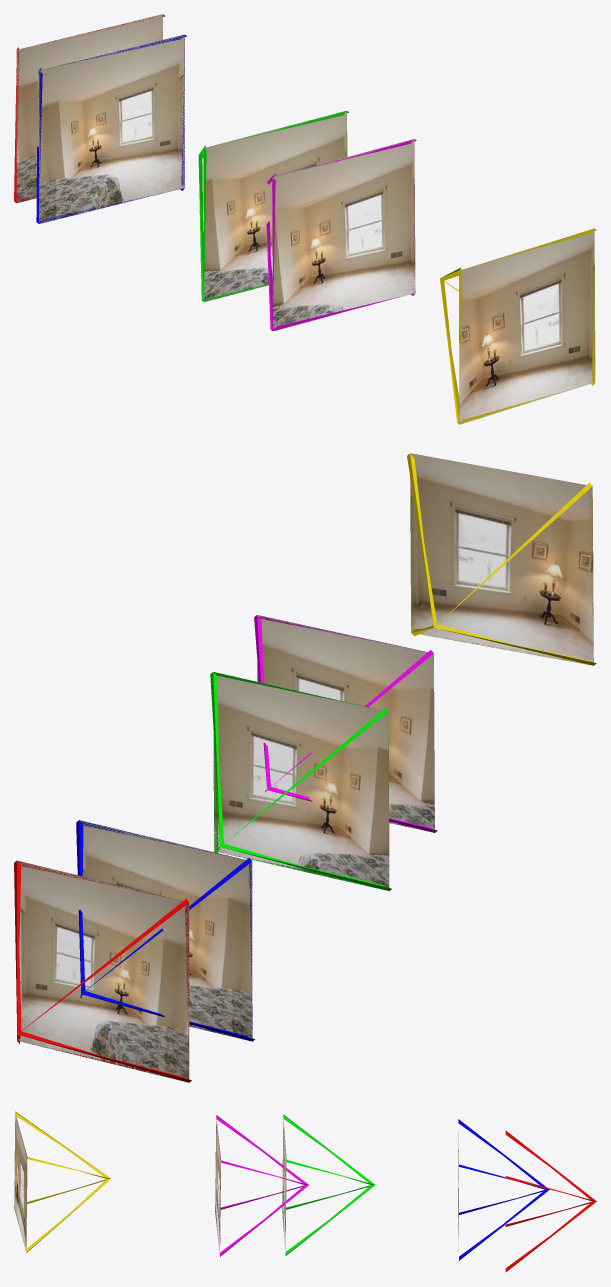
3 renders of one model, top to bottom at view 1: azimuth 30°, elevation 25°; view 2: azimuth 150°, elevation 25°; view 3: azimuth 270°, elevation 25°, orthographic. The views are drawn at different scales.
Parts seen in each view (by area): view 1: world; view 2: world; view 3: world.
Boxes of the visible parts, x1,y1,x2,y2 form: world: (14,14,596,424); world: (14,453,596,1082); world: (14,1111,596,1271).
Bounding box in the file's own units: 0.0736 × 0.0695 × 0.2758.
Materials: 5 (5 with a texture image).
